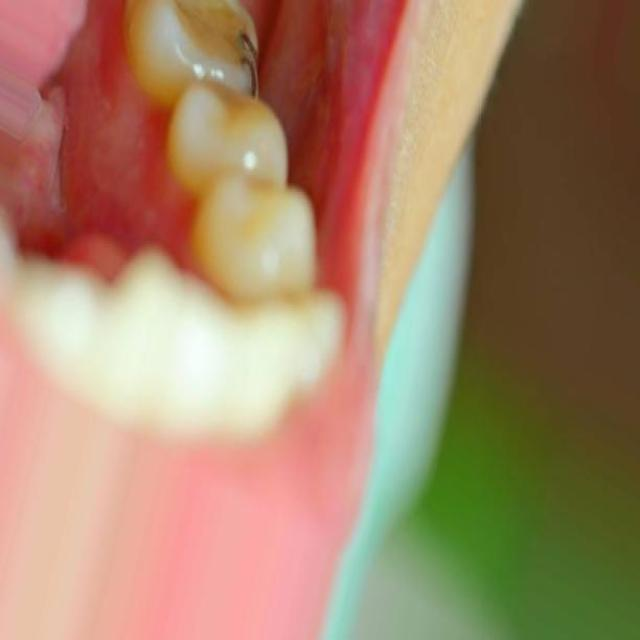caries: (230, 23, 268, 104)
